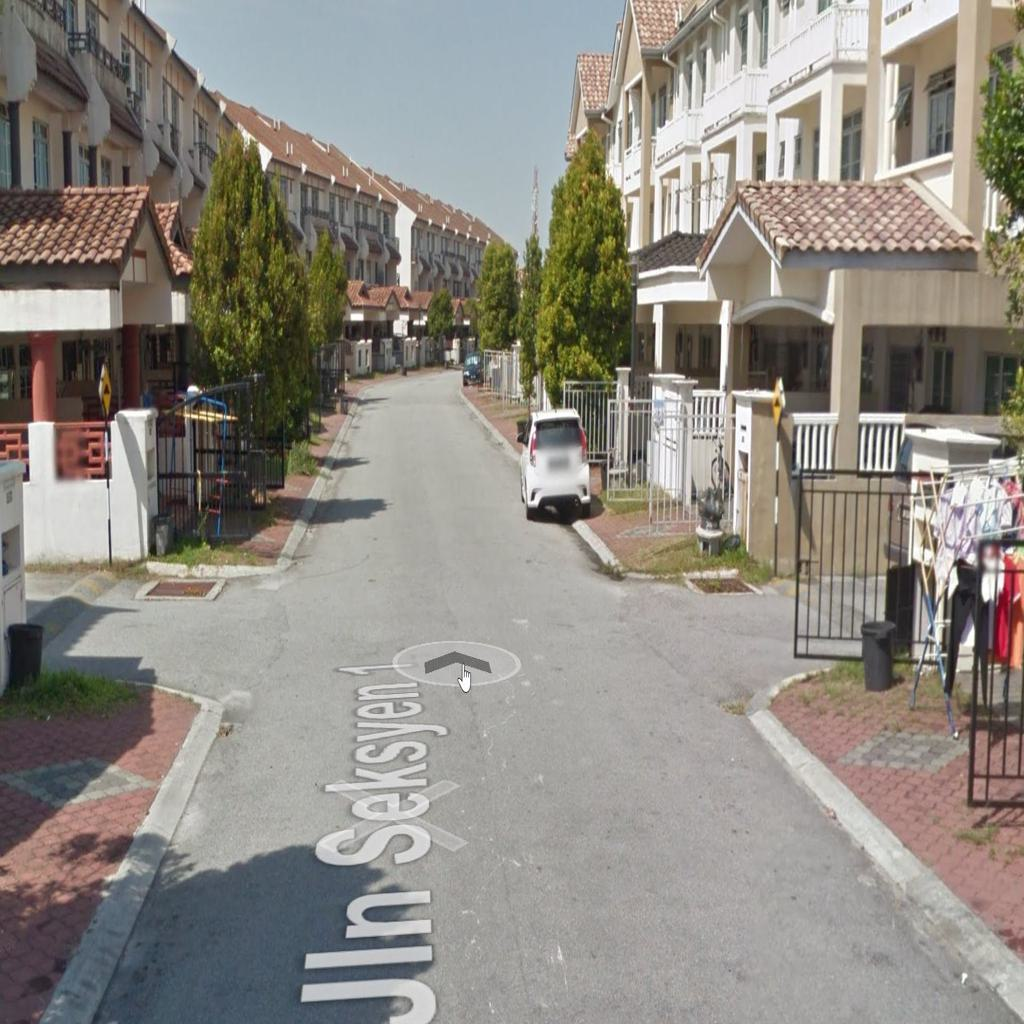Junction: (572, 535, 911, 734), (23, 520, 303, 731)
